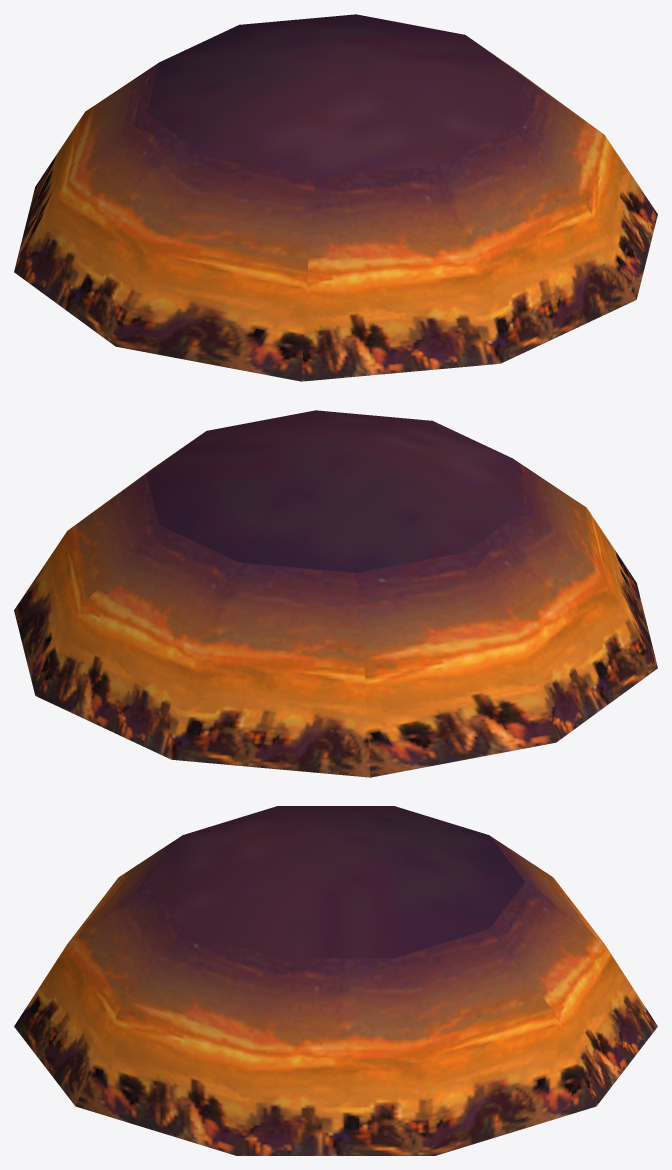
File: Ghost_env.FBX
3 views of the same model, one above another, from view 1: azimuth 30°, elevation 25°; view 2: azimuth 150°, elevation 25°; view 3: azimuth 270°, elevation 25° (orthographic). The views are drawn at different scales.
Visible parts, largest first — view 1: Sphere01; view 2: Sphere01; view 3: Sphere01.
Boxes of the visible parts, x1,y1,x2,y2 form: Sphere01: [14, 14, 657, 381]; Sphere01: [14, 410, 657, 777]; Sphere01: [14, 806, 657, 1155].
Bounding box in the file's own units: 42462 × 14374 × 44648.
